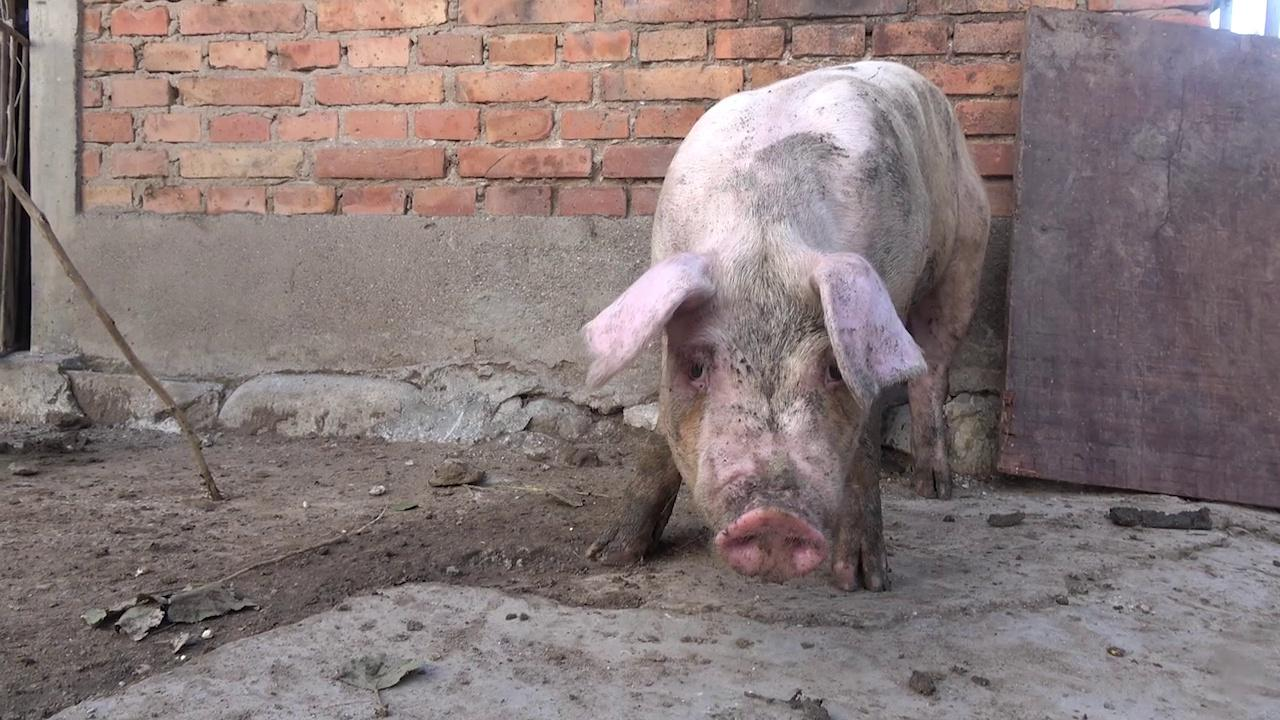Face: (577, 243, 932, 613)
